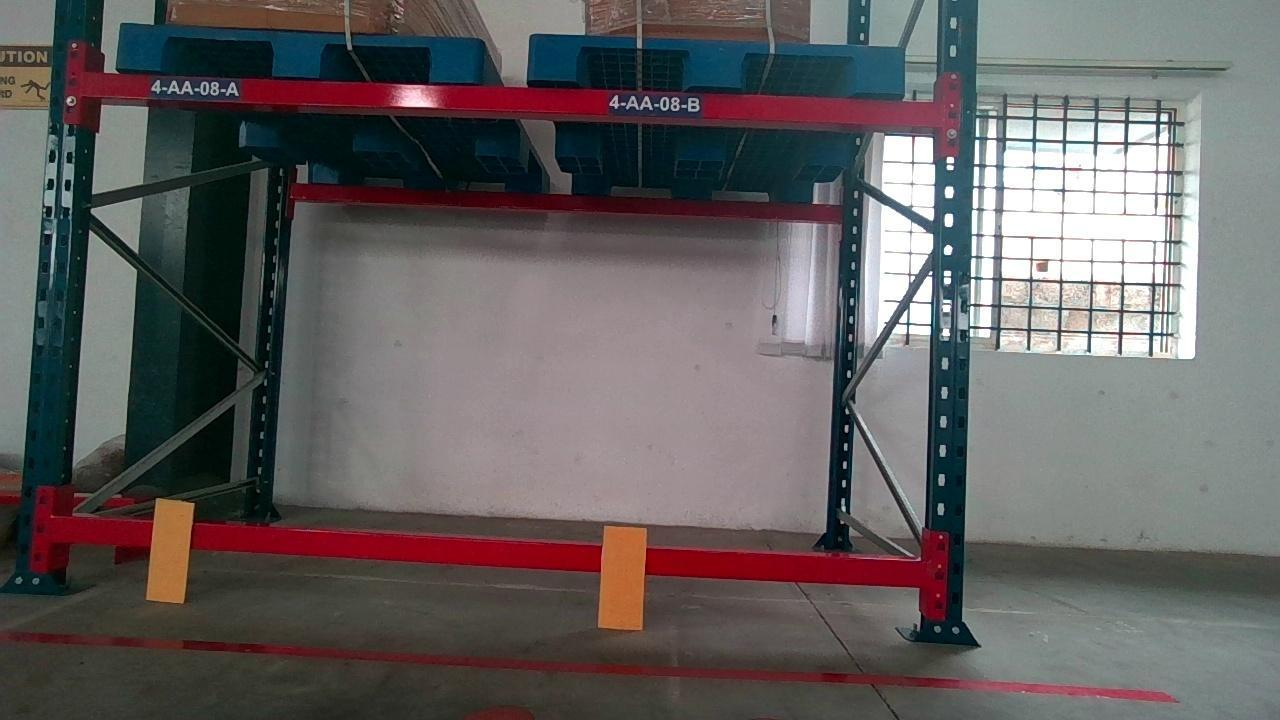h_rack: (39, 520, 929, 587), (89, 74, 939, 122)
orange_strip: (598, 524, 645, 629), (145, 499, 192, 598)
small_pallet: (528, 35, 913, 91), (120, 28, 476, 77)
